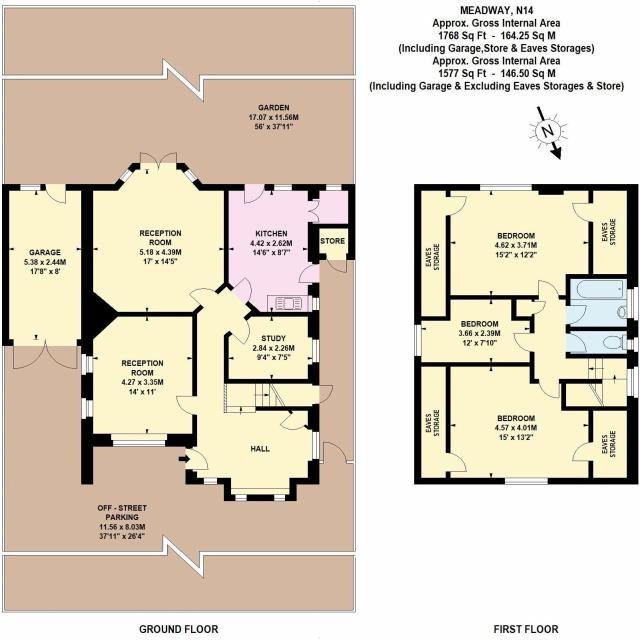DOOR: (229, 276, 253, 306), (188, 287, 220, 309), (228, 316, 251, 346), (184, 448, 210, 471), (278, 411, 307, 431), (323, 441, 347, 465), (537, 278, 561, 301), (444, 451, 469, 473), (571, 441, 596, 463), (445, 195, 468, 217), (297, 263, 321, 284), (570, 202, 594, 223), (564, 304, 588, 325), (512, 332, 536, 353), (564, 332, 588, 353), (537, 378, 561, 399), (175, 395, 198, 416), (45, 183, 67, 204), (244, 183, 266, 204), (325, 253, 348, 273), (311, 385, 334, 405), (531, 300, 548, 316)
DOUBLE DOOR: (139, 150, 179, 173)
ROOM: (175, 276, 320, 501), (79, 152, 229, 318), (445, 362, 594, 485), (444, 183, 594, 301), (80, 311, 198, 447), (223, 184, 320, 317), (413, 295, 535, 367), (223, 306, 320, 384)
WINDOW: (111, 433, 168, 447), (626, 286, 640, 322), (479, 183, 533, 192), (626, 366, 640, 398), (503, 477, 549, 486), (413, 323, 423, 357), (80, 353, 94, 375), (118, 167, 135, 184), (182, 167, 199, 184), (81, 398, 94, 419), (311, 431, 320, 460), (626, 336, 640, 353), (307, 295, 320, 313), (311, 339, 320, 363), (20, 183, 41, 192), (273, 183, 293, 191), (325, 183, 342, 191), (203, 477, 218, 485), (273, 494, 286, 502)
